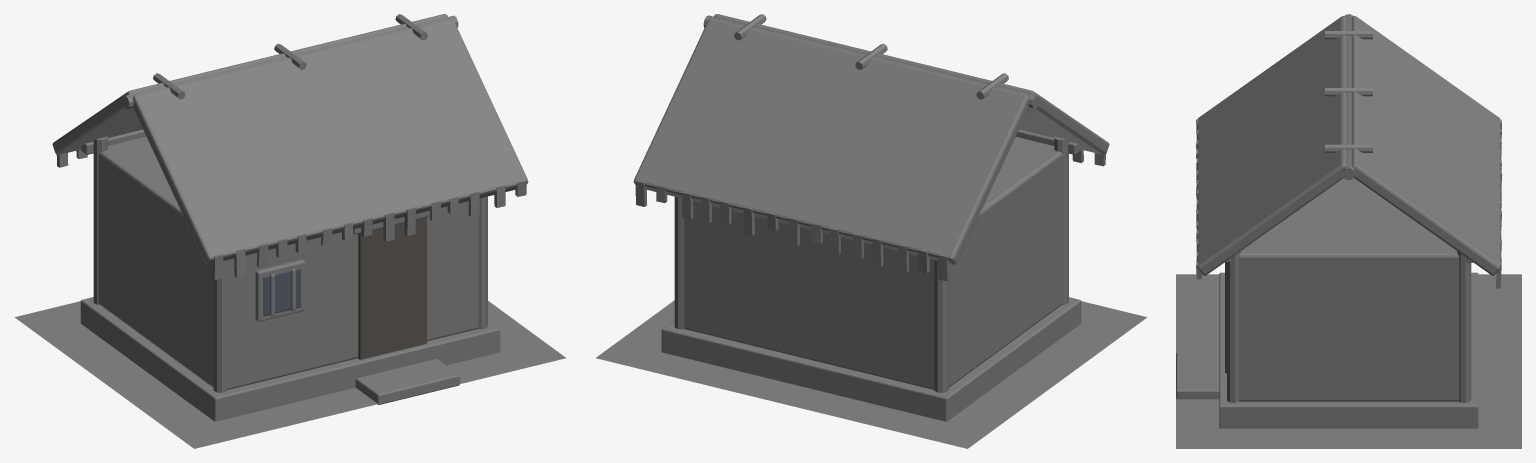
Rendered from hut.glb.
3 renders of one model, left to right at view 1: azimuth 30°, elevation 25°; view 2: azimuth 150°, elevation 25°; view 3: azimuth 270°, elevation 25°, orthographic. The views are drawn at different scales.
Visible parts, largest first — view 1: roof, walls, ContactShadow, footing, door, roof.001, step, post, post.002, winFrame, winDark, post.001 (+1 smaller); view 2: roof.001, walls, ContactShadow, footing, roof, post.001, post.003, post, ridge; view 3: walls, roof, roof.001, ContactShadow, footing, step, post.003, post.002, ridge, ridgeTie.002.
Boxes of the visible parts, bbox=[...] form: roof: bbox=[133, 18, 528, 264]; walls: bbox=[98, 137, 478, 389]; ContactShadow: bbox=[15, 301, 566, 448]; footing: bbox=[80, 297, 500, 421]; door: bbox=[358, 217, 426, 359]; roof.001: bbox=[52, 14, 447, 154]; step: bbox=[355, 359, 459, 404]; post: bbox=[213, 260, 227, 392]; post.002: bbox=[477, 196, 487, 329]; winFrame: bbox=[255, 259, 305, 321]; winDark: bbox=[263, 268, 300, 315]; post.001: bbox=[93, 136, 107, 304]; roof.001: bbox=[633, 18, 1028, 264]; walls: bbox=[683, 137, 1062, 389]; ContactShadow: bbox=[595, 300, 1146, 448]; footing: bbox=[661, 297, 1081, 421]; roof: bbox=[714, 14, 1109, 154]; post.001: bbox=[934, 260, 948, 392]; post.003: bbox=[674, 196, 684, 329]; post: bbox=[1054, 136, 1068, 304]; ridge: bbox=[703, 15, 1039, 108]; walls: bbox=[1239, 178, 1459, 401]; roof: bbox=[1197, 16, 1346, 275]; roof.001: bbox=[1351, 16, 1500, 275]; ContactShadow: bbox=[1176, 274, 1521, 448]; footing: bbox=[1219, 272, 1478, 428]; step: bbox=[1176, 352, 1219, 399]; post.003: bbox=[1457, 251, 1471, 402]; post.002: bbox=[1227, 251, 1240, 402]; ridge: bbox=[1342, 14, 1355, 179]; ridgeTie.002: bbox=[1325, 144, 1372, 152].
Size of the model in its own units: 4.3 by 3.16 by 3.6.
11 materials, 9 textured.
